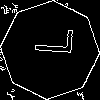L: (25, 25, 73, 56)
